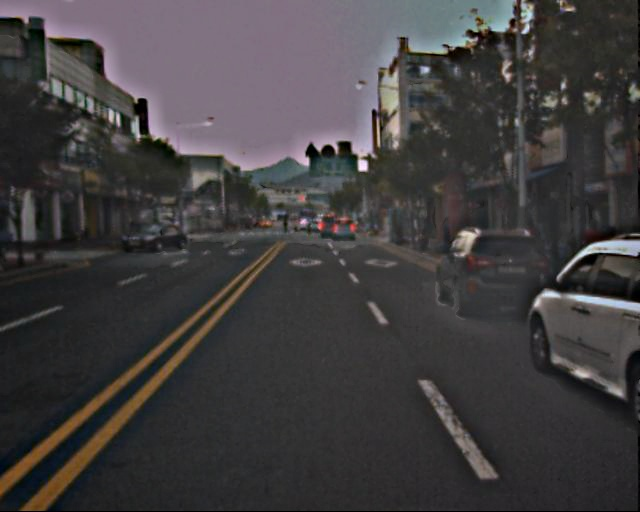person: (576, 219, 609, 300), (440, 214, 453, 246)
